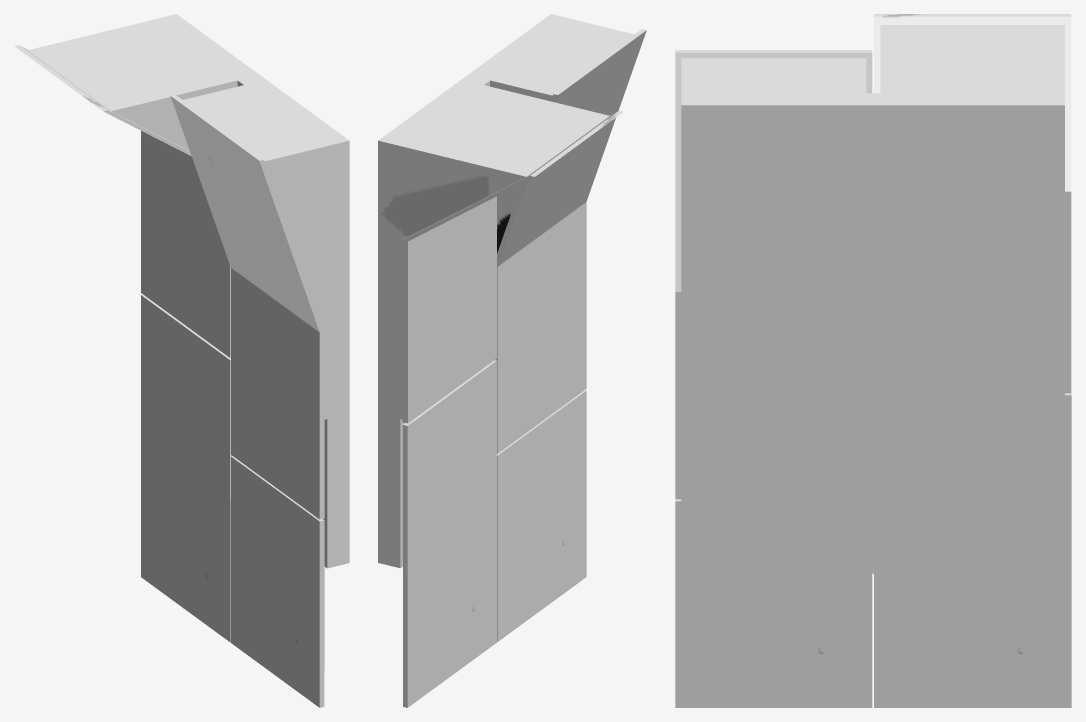
Rendered from 2X Wall.FBX.
The picture shows the model from 3 angles, left to right: view 1: azimuth 30°, elevation 25°; view 2: azimuth 150°, elevation 25°; view 3: azimuth 270°, elevation 25°; orthographic projection. The views are drawn at different scales.
Parts seen in each view (by area): view 1: Object046; view 2: Object046; view 3: Object046.
Boxes of the visible parts, bbox=[...] form: Object046: bbox=[15, 14, 349, 707]; Object046: bbox=[378, 14, 646, 707]; Object046: bbox=[675, 14, 1071, 707].
Size of the model in its own units: 5.93 by 19.96 by 11.52.
